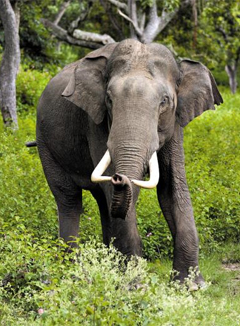Elephant: (32, 36, 229, 289)
